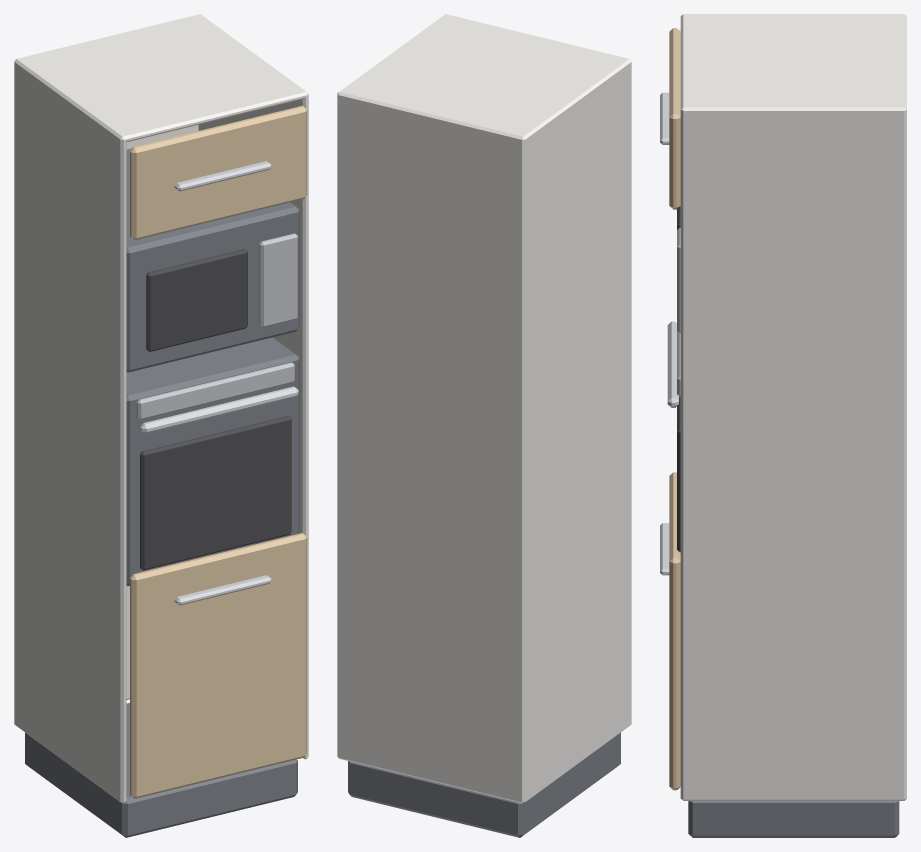
File: BuiltInOvenTower.glb
3 views of the same model, side by side, from view 1: azimuth 30°, elevation 25°; view 2: azimuth 150°, elevation 25°; view 3: azimuth 270°, elevation 25° (orthographic). The views are drawn at different scales.
Visible parts, largest first — view 1: BuiltInOvenTower_Body; view 2: BuiltInOvenTower_Body; view 3: BuiltInOvenTower_Body.
Part boxes in pixels (left/top/right/bottom): BuiltInOvenTower_Body: left=14, top=14, right=308, bottom=837; BuiltInOvenTower_Body: left=337, top=14, right=631, bottom=837; BuiltInOvenTower_Body: left=660, top=14, right=906, bottom=837.
Size of the model in its own units: 0.6 by 2.15 by 0.655.
